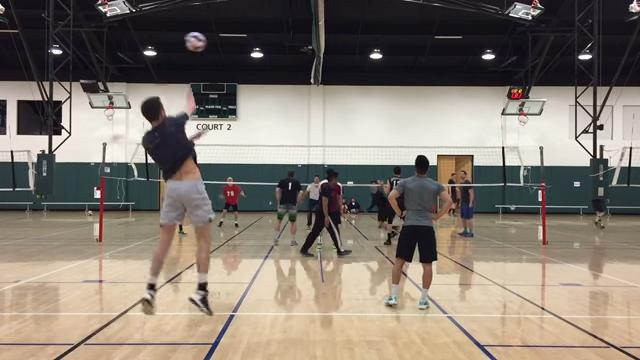battuta: (130, 82, 220, 322)
